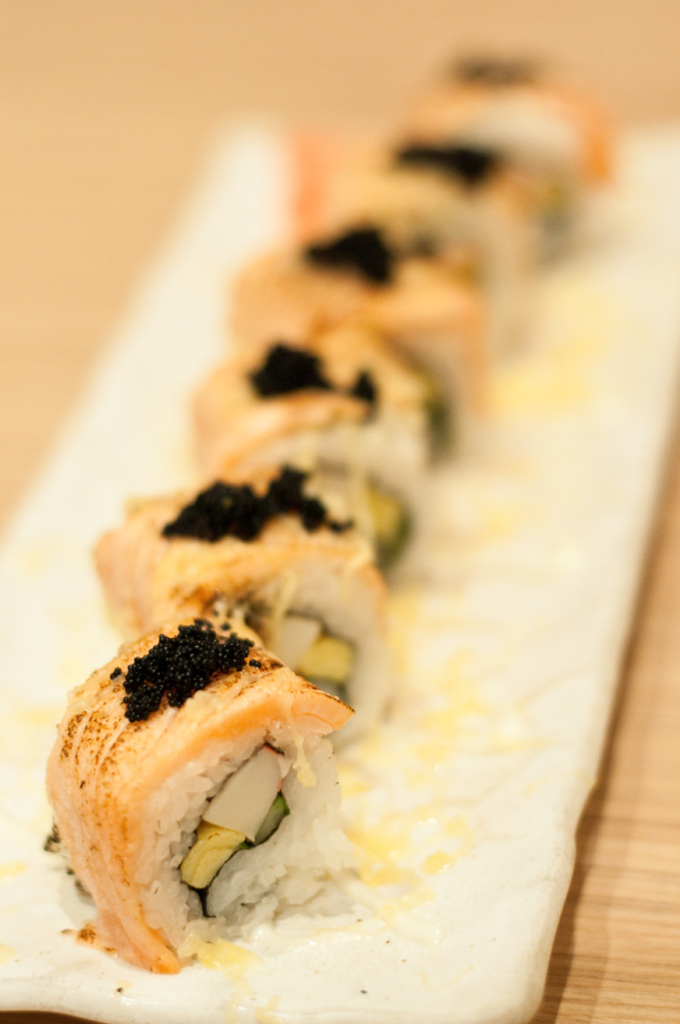sushi: (43, 65, 636, 979), (40, 616, 345, 956)
